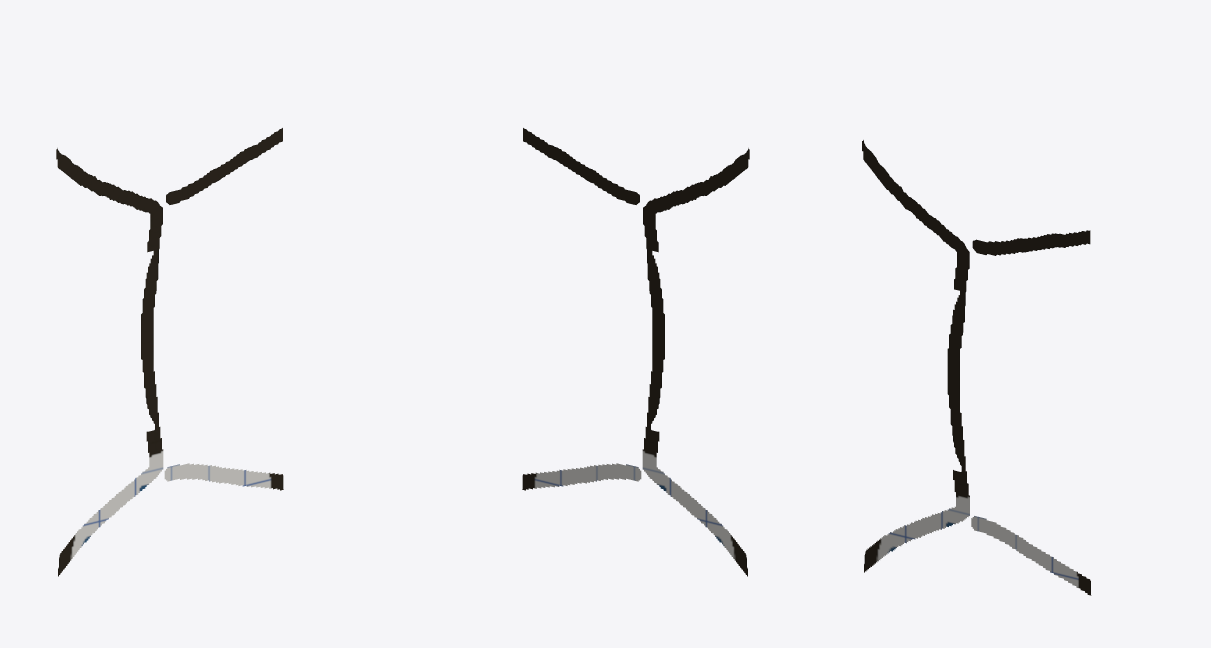
The model's file is barnaby.glb.
3 views of the same model, side by side, from view 1: azimuth 30°, elevation 25°; view 2: azimuth 150°, elevation 25°; view 3: azimuth 330°, elevation 25° (orthographic).
Parts seen in each view (by area): view 1: cutout; view 2: cutout; view 3: cutout.
Boxes of the visible parts, x1,y1,x2,y2 form: cutout: (56, 128, 283, 576); cutout: (522, 128, 749, 576); cutout: (862, 140, 1091, 595).
Bounding box in the file's own units: 1.69 × 2.59 × 0.
1 material, 1 textured.
